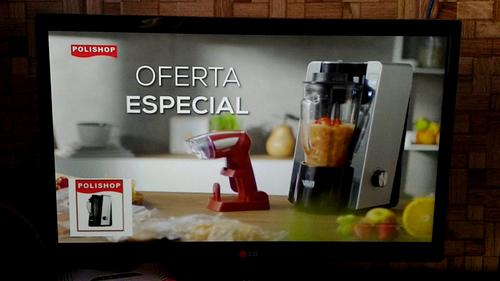Polishop #1: (69, 176, 132, 235)
